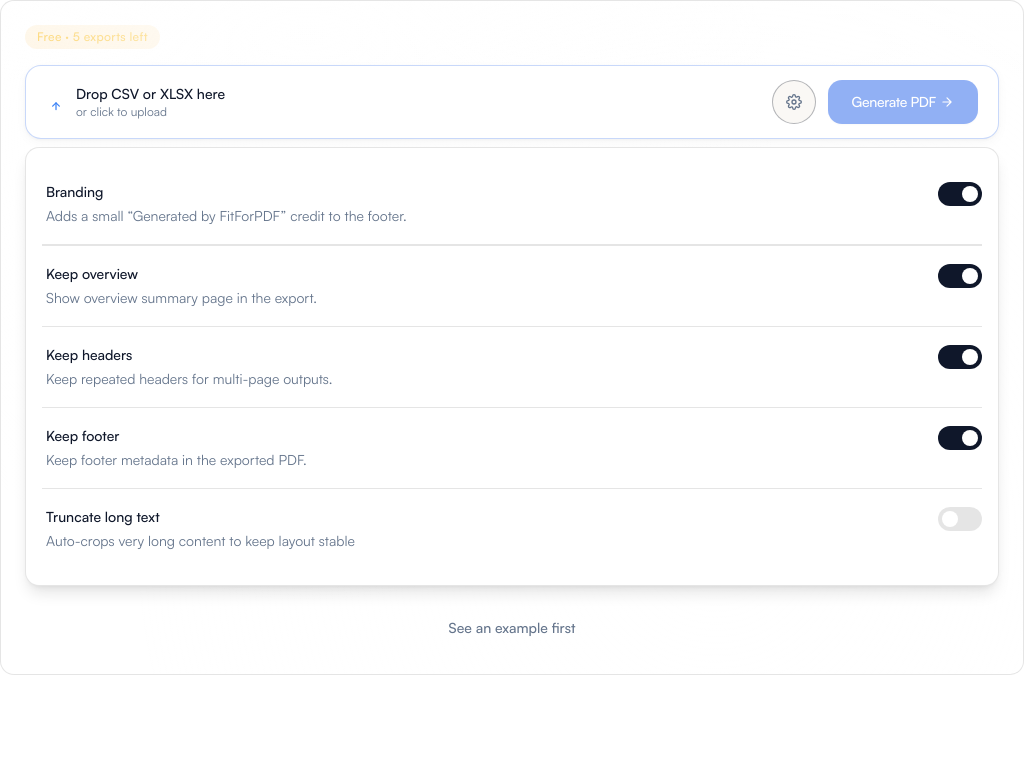
Test: UploadCard unit behavior › free users cannot disable branding and see an inline upgrade nudge
What coordinates should you click on to do the following:
click the text "Branding"
I would click on:
 (75, 192)
Its box is x1=46 y1=183 x2=103 y2=200.
(page scrolled)
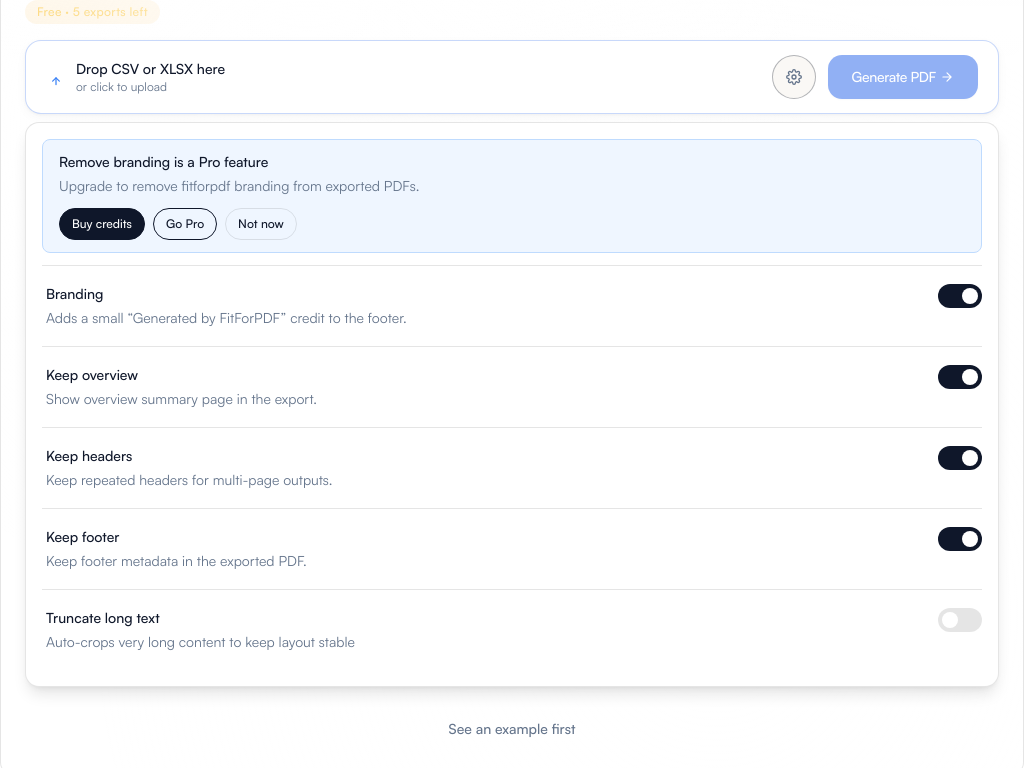
Expected: the element with test id "branding-upgrade-nudge" is shown, x1=42 y1=139 x2=982 y2=253
Expected: the text "Remove branding is a Pro feature" is shown, x1=59 y1=153 x2=268 y2=170
Expected: the text "Upgrade to remove fitforpdf branding from exported PDFs." is shown, x1=59 y1=177 x2=419 y2=194
